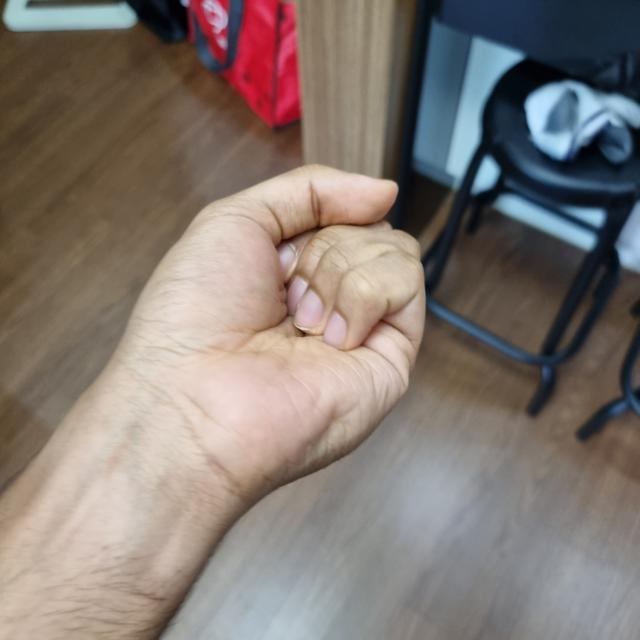Rock: (139, 165, 417, 494)
